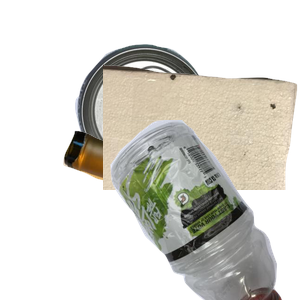glass: (60, 128, 300, 300)
metal: (73, 42, 277, 212)
plastic: (73, 120, 300, 300)
trash: (103, 62, 300, 242)
